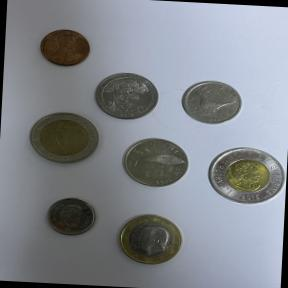coin: (197, 136, 288, 210), (108, 208, 194, 272), (113, 130, 197, 195), (22, 108, 104, 170), (88, 64, 166, 123), (29, 21, 99, 75), (40, 190, 103, 241)
